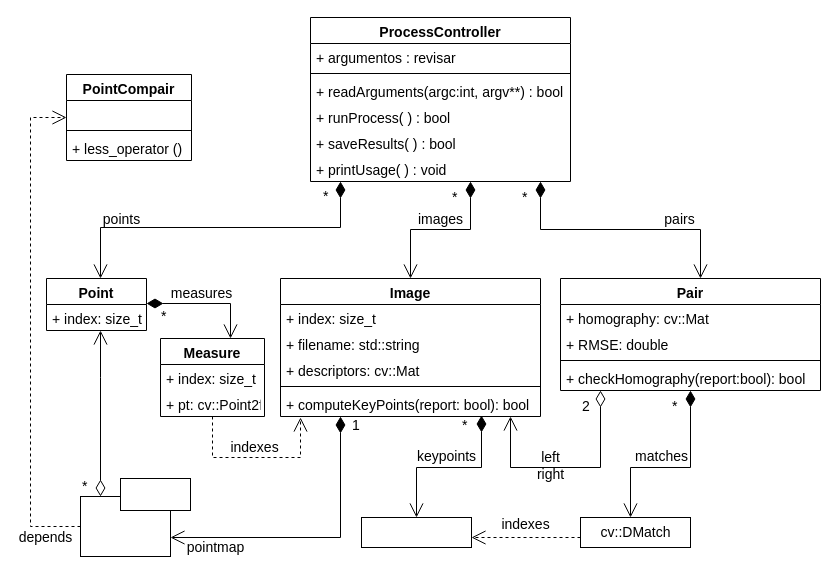
This 838x575 diagram has some shape labels left out. The centre of each missing label's shape, as x and y in pixels:
"cv::KeyPoint" goes at pixel 416 532.
"cv::Point2f Point *" goes at pixel 155 494.
"«std::map» Pointmap" goes at pixel 125 526.
